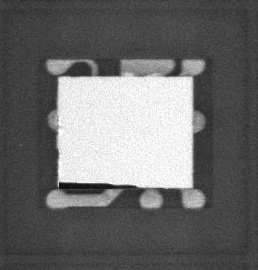DIE_BROKEN: (57, 180, 141, 190)
